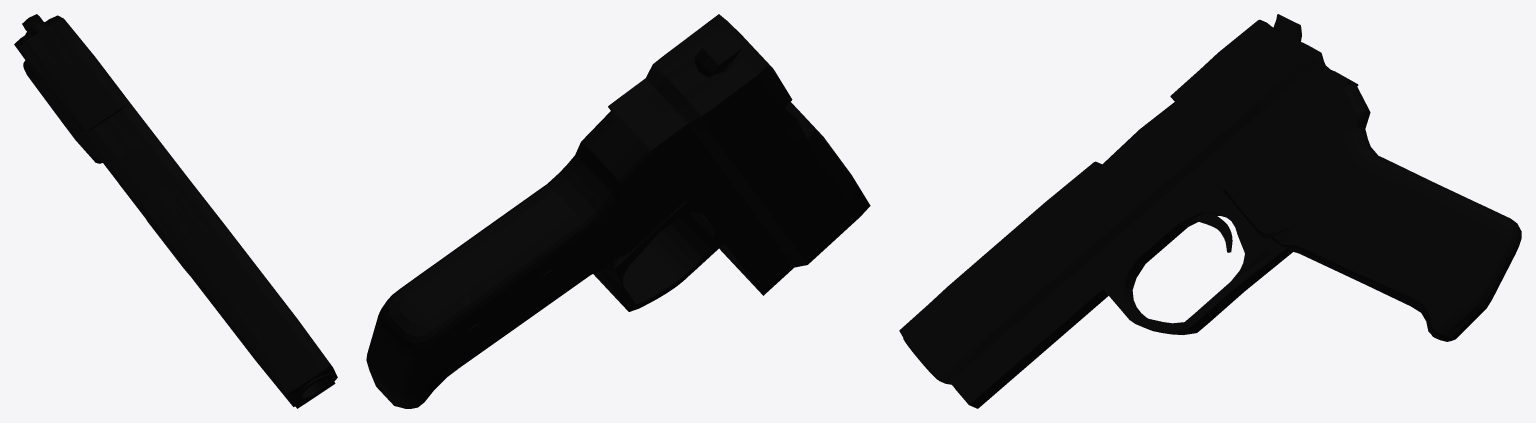
The model's file is mhw_culturalibre_cl_gun_left_hand.glb.
3 views of the same model, side by side, from view 1: azimuth 30°, elevation 25°; view 2: azimuth 150°, elevation 25°; view 3: azimuth 270°, elevation 25° (orthographic). The views are drawn at different scales.
Visible parts, largest first — view 1: mhw_culturalibre_cl_gun_left_hand; view 2: mhw_culturalibre_cl_gun_left_hand; view 3: mhw_culturalibre_cl_gun_left_hand.
Boxes of the visible parts, x1,y1,x2,y2 form: mhw_culturalibre_cl_gun_left_hand: (14, 14, 337, 408); mhw_culturalibre_cl_gun_left_hand: (366, 14, 870, 408); mhw_culturalibre_cl_gun_left_hand: (899, 14, 1521, 408).
Bounding box in the file's own units: 0.0958 × 0.1529 × 0.2565.
Materials: 1 (1 with a texture image).
